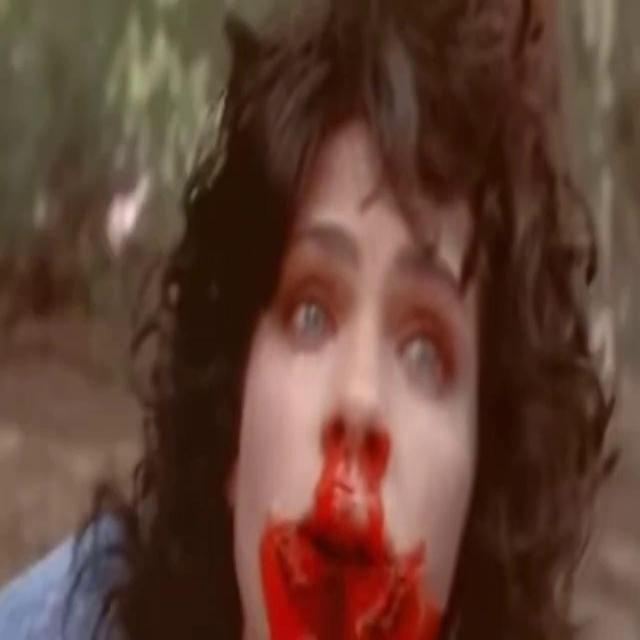flood: (265, 547, 423, 640)
